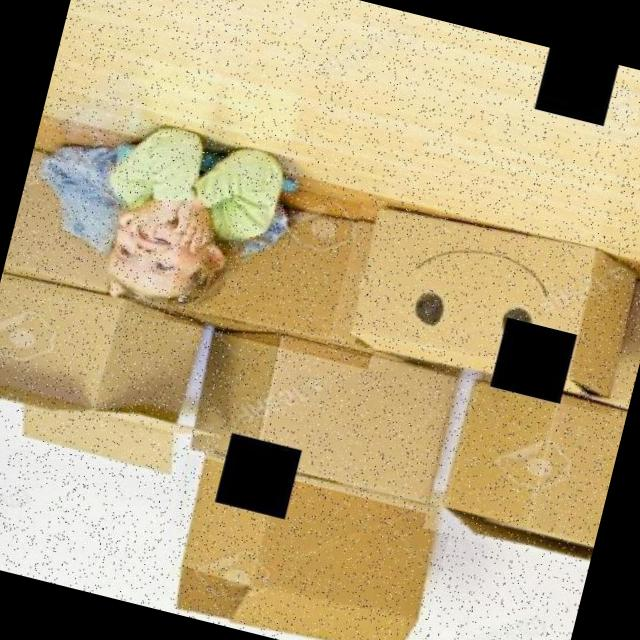box: (326, 195, 640, 416), (163, 307, 480, 518), (149, 445, 454, 640), (155, 161, 406, 369), (0, 273, 211, 488), (2, 102, 206, 320), (422, 360, 630, 569)
